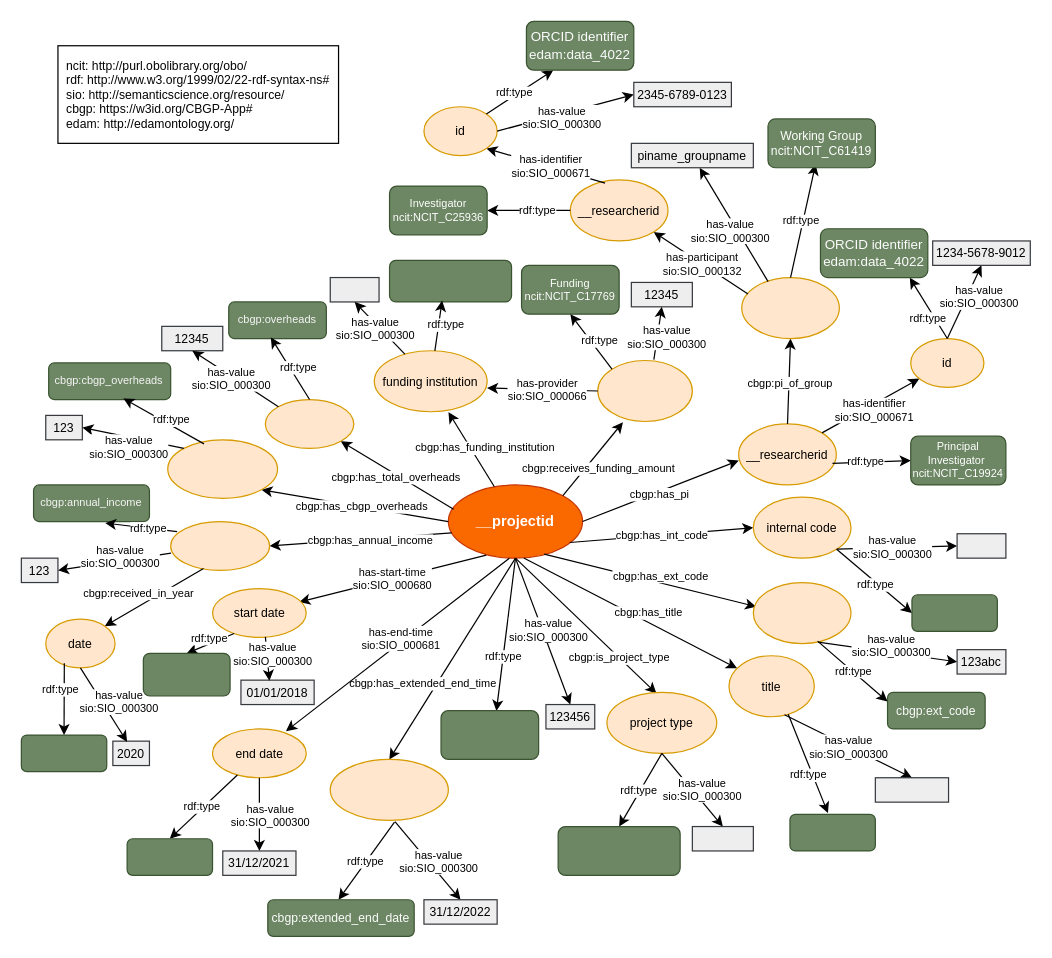
Image size: 1052x958. Some labels were removed from this diagram. The centre of each missing label's shape, as x and y in pixels:
"456def" belongs at [981,545].
"ABCDFGH" belongs at [911,789].
"annual income" belongs at [219,545].
"cbgp overheads" belongs at [222,468].
"cbgp:funding_institution" belongs at [450,280].
"cbgp:int_code" belongs at [954,612].
"cbgp:title" belongs at [832,832].
"date of issue sio:SIO_001314" belongs at [63,753].
"end date sio: SIO_000032" belongs at [169,856].
"extended end date" belongs at [388,789].
"external code" belongs at [801,612].
"Nacional" belongs at [722,838].
"overheads" belongs at [309,423].
"Project ncit:NCIT_C47885" belongs at [489,734].
"Project Type ncit: NCIT_C165058" belongs at [618,850].
"research group" belongs at [790,307].
"start date sio: SIO_000031" belongs at [186,674].
"total funding" belongs at [644,390].
"UPM" belongs at [354,289].
